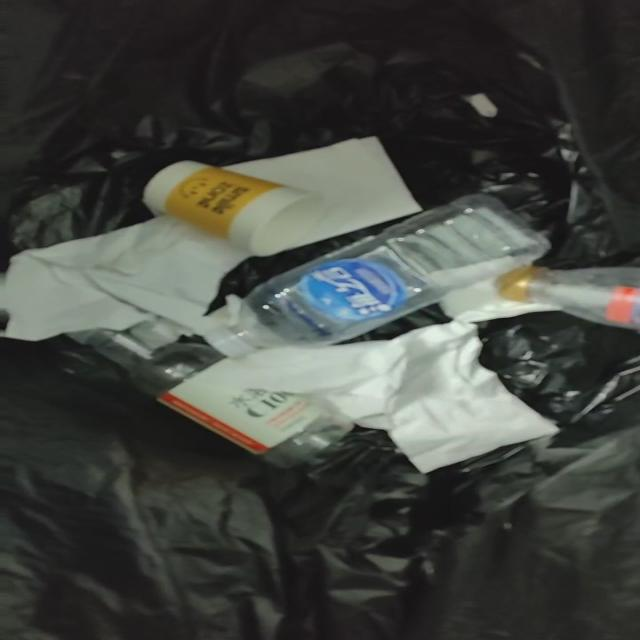bottle: (72, 331, 352, 464), (497, 266, 639, 332)
dixie_cup: (143, 161, 326, 256)
paper: (246, 321, 557, 473), (0, 216, 247, 340), (225, 137, 420, 244), (431, 256, 550, 322)
